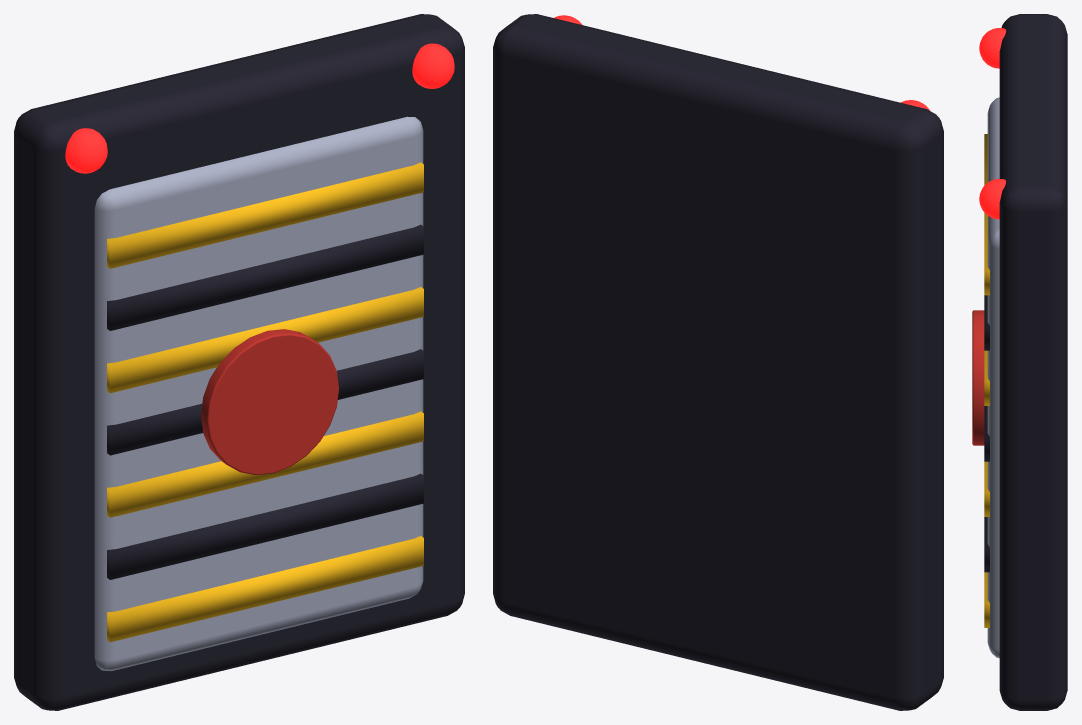
File: hatch.glb
3 renders of one model, left to right at view 1: azimuth 30°, elevation 25°; view 2: azimuth 150°, elevation 25°; view 3: azimuth 270°, elevation 25°, orthographic. The views are drawn at different scales.
Visible parts, largest first — view 1: frame, door, wheel, stripe6, stripe0, stripe1, stripe5, stripe4, stripe2, stripe3, lamp1, lamp-1; view 2: frame; view 3: frame, door, wheel, lamp-1, lamp1, stripe6, stripe0, stripe1, stripe3, stripe5, stripe2, stripe4.
Part boxes in pixels (box(x1,y1,x2,y2)): frame: box(14, 14, 464, 710); door: box(94, 116, 423, 670); wheel: box(201, 329, 338, 475); stripe6: box(107, 162, 423, 268); stripe0: box(107, 536, 423, 642); stripe1: box(107, 473, 423, 579); stripe5: box(107, 224, 423, 330); stripe4: box(107, 287, 423, 393); stripe2: box(107, 411, 423, 517); stripe3: box(107, 349, 423, 455); lamp1: box(412, 43, 454, 88); lamp-1: box(65, 128, 107, 173); frame: box(493, 14, 943, 710); frame: box(999, 14, 1067, 710); door: box(987, 97, 999, 658); wheel: box(972, 310, 984, 445); lamp-1: box(979, 28, 1005, 68); lamp1: box(979, 179, 1005, 219); stripe6: box(984, 134, 989, 295); stripe0: box(984, 572, 989, 627); stripe1: box(984, 517, 989, 572); stripe3: box(984, 406, 989, 461); stripe5: box(984, 295, 989, 350); stripe2: box(984, 461, 989, 516); stripe4: box(984, 350, 989, 405).
Bounding box in the file's own units: 2.6 × 3.4 × 0.56.
